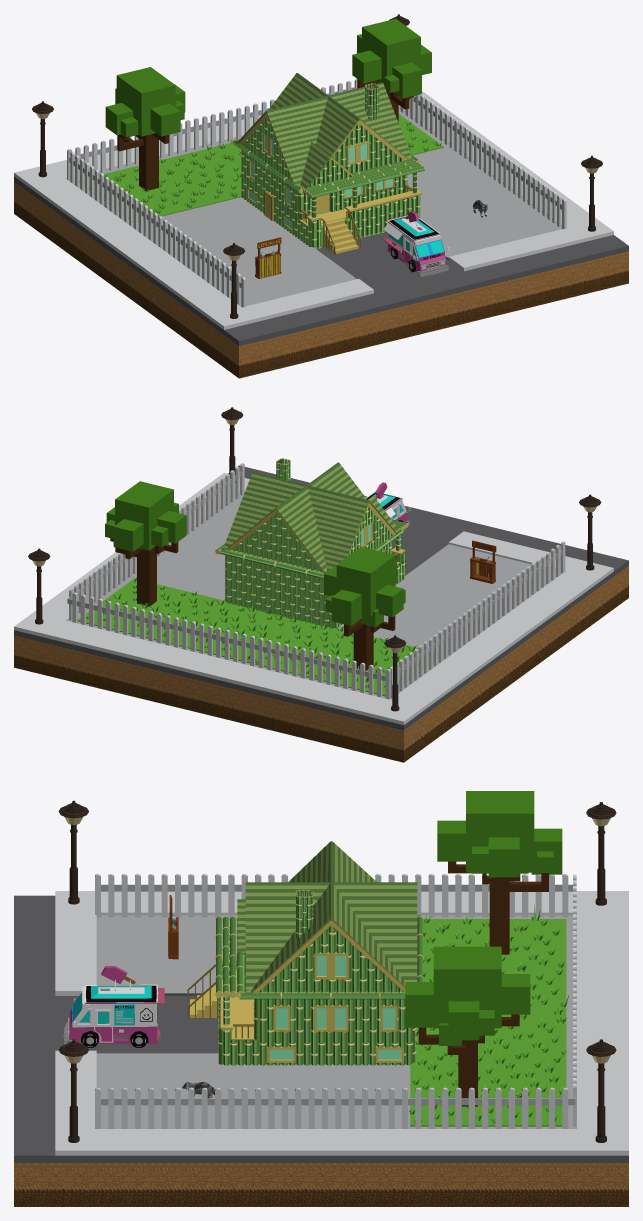
3 views of the same model, one above another, from view 1: azimuth 30°, elevation 25°; view 2: azimuth 150°, elevation 25°; view 3: azimuth 270°, elevation 25° (orthographic). The views are drawn at different scales.
Visible parts, largest first — view 1: Cube.004, Cube.1327, VEHICLES_ICE_CREAM_TRUCK, OBJRANDOM_LEMONADE_STAND; view 2: Cube.004, Cube.1327, OBJRANDOM_LEMONADE_STAND, VEHICLES_ICE_CREAM_TRUCK; view 3: Cube.004, Cube.1327, VEHICLES_ICE_CREAM_TRUCK.
Part boxes in pixels (x1=…): Cube.004: x1=14, y1=14, x2=628, y2=378; Cube.1327: x1=232, y1=73, x2=424, y2=255; VEHICLES_ICE_CREAM_TRUCK: x1=382, y1=211, x2=449, y2=277; OBJRANDOM_LEMONADE_STAND: x1=255, y1=237, x2=281, y2=278; Cube.004: x1=14, y1=407, x2=628, y2=762; Cube.1327: x1=215, y1=458, x2=408, y2=628; OBJRANDOM_LEMONADE_STAND: x1=470, y1=540, x2=496, y2=583; VEHICLES_ICE_CREAM_TRUCK: x1=366, y1=482, x2=410, y2=525; Cube.004: x1=14, y1=791, x2=628, y2=1206; Cube.1327: x1=187, y1=841, x2=423, y2=1065; VEHICLES_ICE_CREAM_TRUCK: x1=63, y1=966, x2=164, y2=1047.
Bounding box in the file's own units: 4000 × 1762 × 4000.
Materials: 41 (4 with a texture image).
